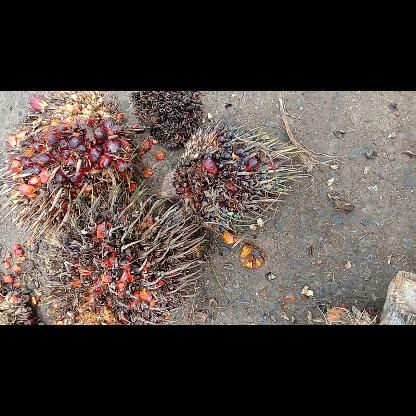TBS abnormal: (158, 117, 304, 237), (128, 90, 206, 150)
TBS masak: (5, 92, 152, 238)
Terlalu masak: (36, 188, 208, 324)
